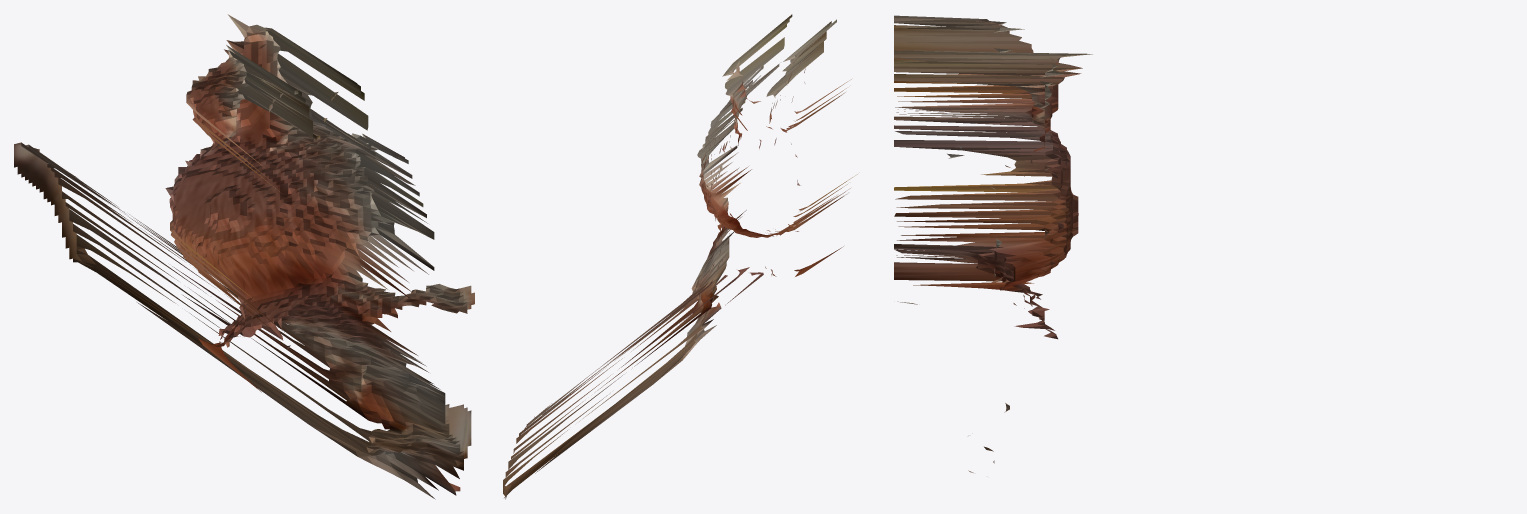
Rendered from frame_00345.glb.
3 views of the same model, side by side, from view 1: azimuth 30°, elevation 25°; view 2: azimuth 150°, elevation 25°; view 3: azimuth 270°, elevation 25° (orthographic). The views are drawn at different scales.
Parts seen in each view (by area): view 1: geometry_0; view 2: geometry_0; view 3: geometry_0.
Part boxes in pixels (left/top/right/bottom): geometry_0: left=14, top=14, right=474, bottom=499; geometry_0: left=503, top=14, right=857, bottom=499; geometry_0: left=894, top=15, right=1092, bottom=472.
Size of the model in its own units: 0.0594 by 0.1174 by 0.16.
1 material, 1 textured.
